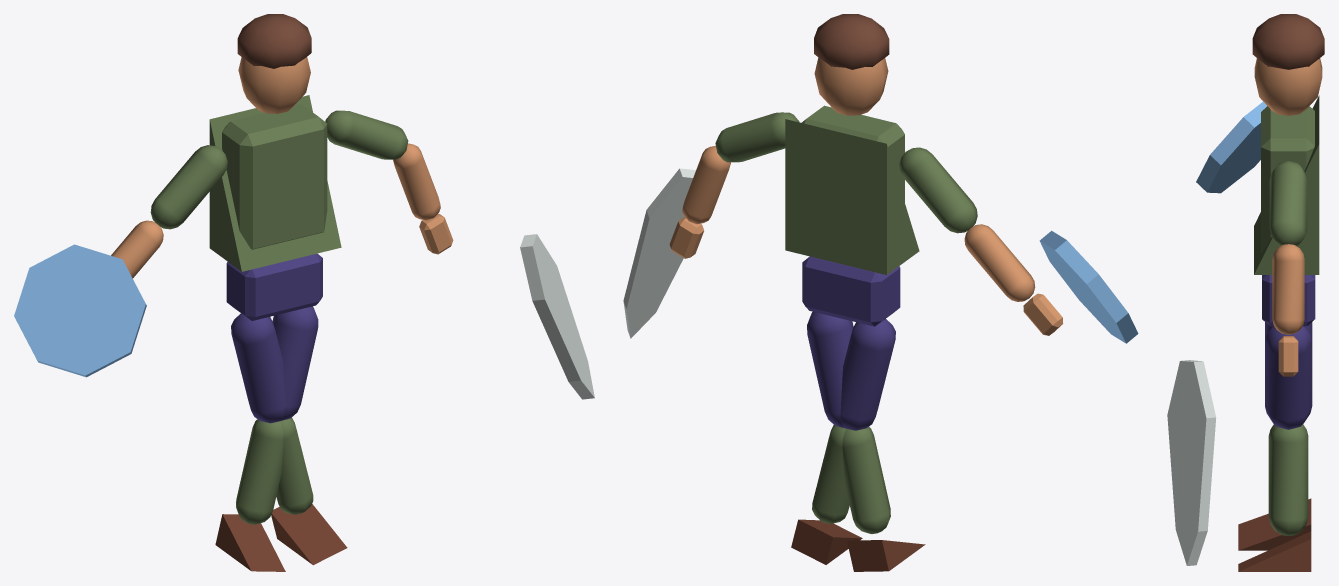
File: adventurer.rustic.glb
The picture shows the model from 3 angles, left to right: view 1: azimuth 30°, elevation 25°; view 2: azimuth 150°, elevation 25°; view 3: azimuth 270°, elevation 25°; orthographic projection.
Parts seen in each view (by area): view 1: accessory.off-hand, torso, tunic, accessory.main-hand, pelvis, thigh.left, shin.right, upper-arm.left, hair, thigh.right, head, upper-arm.right (+6 smaller); view 2: tunic, accessory.main-hand, pelvis, thigh.left, shin.right, accessory.off-hand, upper-arm.left, hair, thigh.right, head, forearm.left, upper-arm.right (+7 smaller); view 3: accessory.main-hand, shin.left, thigh.right, torso, hair, accessory.off-hand, upper-arm.right, tunic, head, forearm.right, foot.left, foot.right (+2 smaller).
Part boxes in pixels (<box>): accessory.off-hand: <box>14,244,146,377</box>; torso: <box>222,104,327,249</box>; tunic: <box>209,95,341,271</box>; accessory.main-hand: <box>520,234,594,399</box>; pelvis: <box>226,253,322,320</box>; thigh.left: <box>231,313,285,423</box>; shin.right: <box>236,419,283,524</box>; upper-arm.left: <box>150,145,227,229</box>; hair: <box>237,14,311,68</box>; thigh.right: <box>272,306,318,420</box>; head: <box>238,57,310,113</box>; upper-arm.right: <box>325,110,408,159</box>; tunic: <box>785,119,919,274</box>; accessory.main-hand: <box>623,168,695,338</box>; pelvis: <box>802,256,900,326</box>; thigh.left: <box>840,319,895,430</box>; shin.right: <box>842,427,890,533</box>; accessory.off-hand: <box>1039,230,1138,343</box>; upper-arm.left: <box>899,147,977,233</box>; hair: <box>814,14,889,69</box>; thigh.right: <box>807,311,853,428</box>; head: <box>814,57,888,115</box>; forearm.left: <box>964,224,1035,301</box>; upper-arm.right: <box>715,112,799,162</box>; accessory.main-hand: <box>1167,360,1216,565</box>; shin.left: <box>1268,425,1308,535</box>; thigh.right: <box>1265,326,1312,429</box>; torso: <box>1261,106,1314,251</box>; hair: <box>1252,14,1324,69</box>; accessory.off-hand: <box>1196,101,1266,193</box>; upper-arm.right: <box>1269,161,1307,246</box>; tunic: <box>1254,95,1319,274</box>; head: <box>1254,58,1322,115</box>; forearm.right: <box>1272,244,1304,334</box>; foot.left: <box>1238,531,1311,571</box>; foot.right: <box>1238,498,1311,550</box>.
Bounding box in the file's own units: 3.18 × 3.01 × 0.7964.
